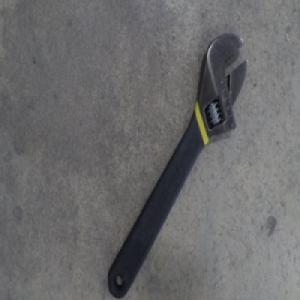AdjustableWrench: (107, 32, 247, 295)
